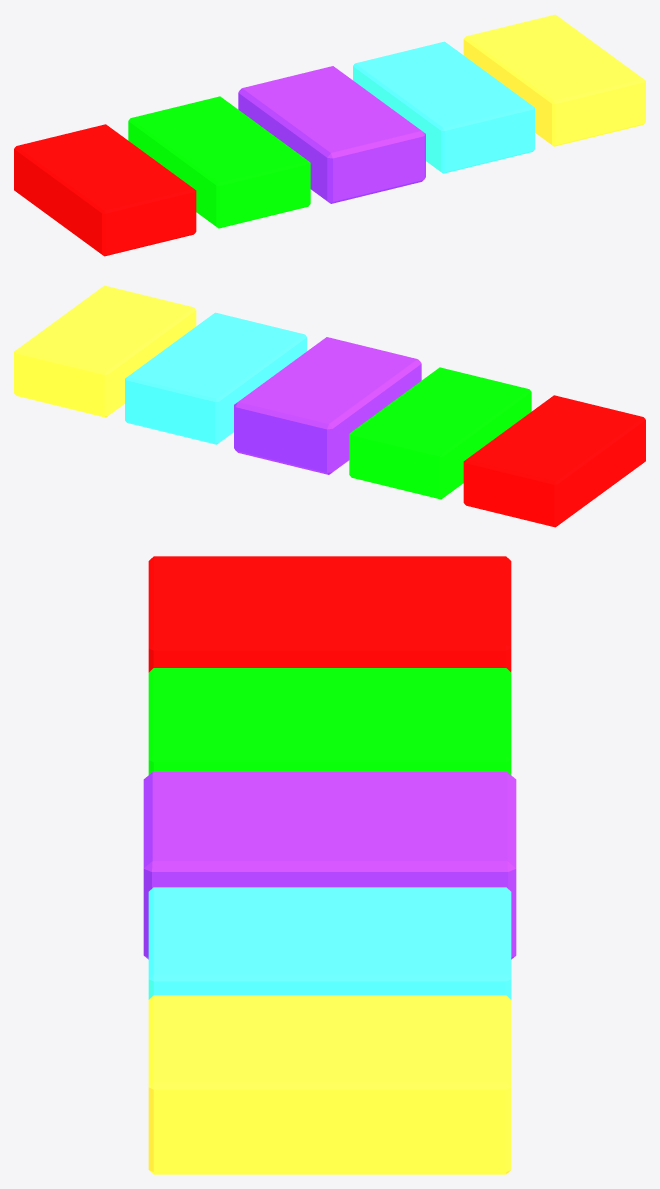
The model's file is Ammo Boxes.fbx.
3 views of the same model, one above another, from view 1: azimuth 30°, elevation 25°; view 2: azimuth 150°, elevation 25°; view 3: azimuth 270°, elevation 25° (orthographic). The views are drawn at different scales.
Visible parts, largest first — view 1: SP__Ammo_Box:Outline, SH__Ammo_Box:Outline, SMG__Ammo_Box:Outline, S__Ammo_Box:Outline, P__Ammo_Box:Outline; view 2: SP__Ammo_Box:Outline, SH__Ammo_Box:Outline, SMG__Ammo_Box:Outline, S__Ammo_Box:Outline, P__Ammo_Box:Outline; view 3: S__Ammo_Box:Outline, SH__Ammo_Box:Outline, SP__Ammo_Box:Outline, P__Ammo_Box:Outline, SMG__Ammo_Box:Outline.
Part boxes in pixels (<box>): SP__Ammo_Box:Outline: <box>14,124,196,256</box>; SH__Ammo_Box:Outline: <box>238,66,425,203</box>; SMG__Ammo_Box:Outline: <box>128,96,310,228</box>; S__Ammo_Box:Outline: <box>463,14,645,146</box>; P__Ammo_Box:Outline: <box>353,41,534,173</box>; SP__Ammo_Box:Outline: <box>463,395,645,527</box>; SH__Ammo_Box:Outline: <box>234,337,421,474</box>; SMG__Ammo_Box:Outline: <box>349,367,531,499</box>; S__Ammo_Box:Outline: <box>14,285,196,417</box>; P__Ammo_Box:Outline: <box>125,312,306,444</box>; S__Ammo_Box:Outline: <box>148,995,511,1174</box>; SH__Ammo_Box:Outline: <box>143,772,516,959</box>; SP__Ammo_Box:Outline: <box>148,556,511,672</box>; P__Ammo_Box:Outline: <box>148,887,511,999</box>; SMG__Ammo_Box:Outline: <box>148,668,511,774</box>.
Size of the model in its own units: 19.31 by 1.73 by 5.73.
